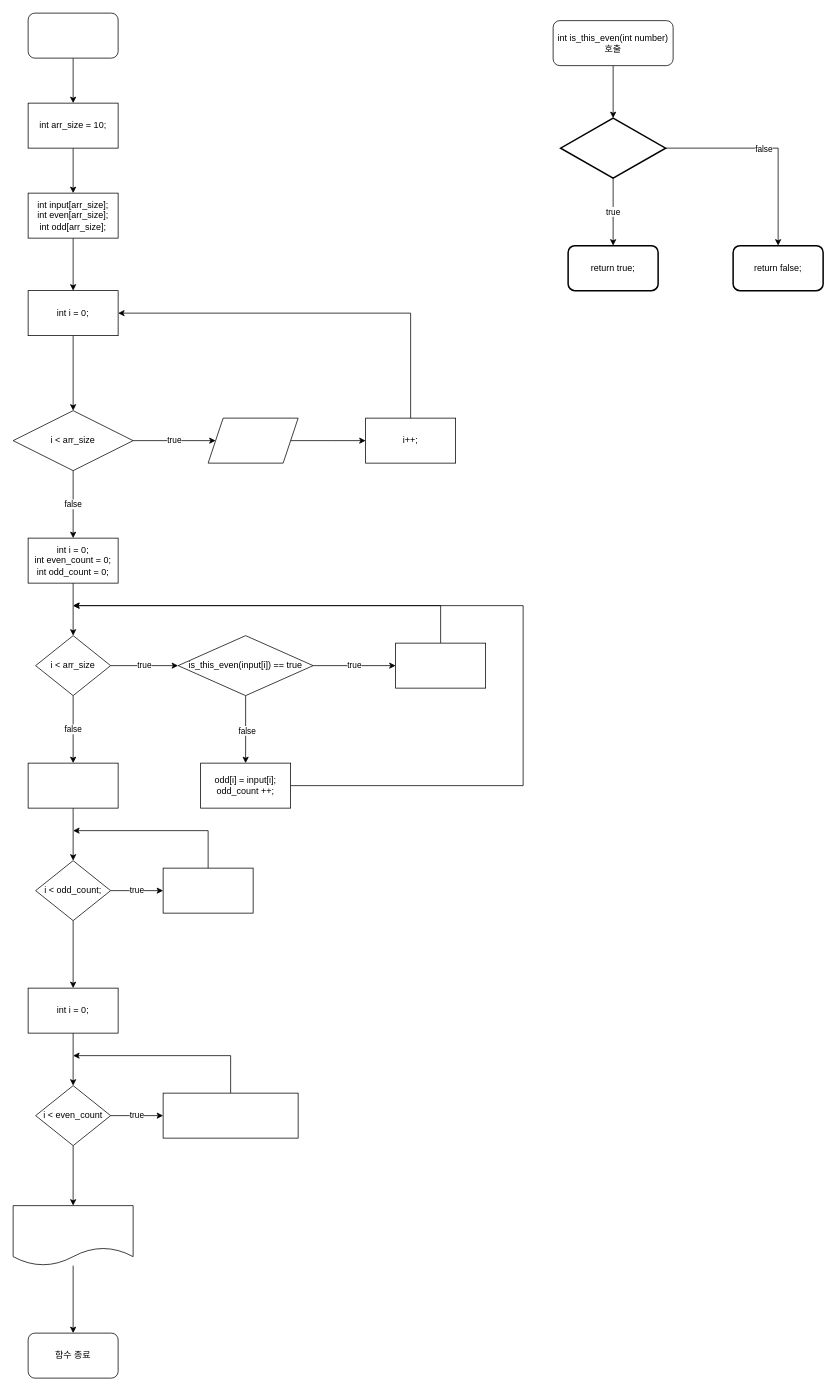
The diagram is 837 pixels wide and 1391 high, and some of its shapes have lost their labels. The box of each missing label's shape, as (x1, y1, x2, y2) in pixels:
answer[] 보여주는 반복문 실행: (12, 1205, 133, 1266)
answer[arr_size - 1 - i] = even[i]: (162, 1092, 298, 1138)
answer[i] = odd[i];: (162, 867, 253, 913)
even[i] = input[i]; even_count++;: (395, 642, 486, 688)
input[i]에 입력값 정수로 대입: (207, 417, 298, 463)
int i = 0; int answer[arr_size];: (27, 762, 118, 808)
number % 2 == 0: (560, 117, 666, 178)
메인 함수 시작: (27, 12, 118, 58)
